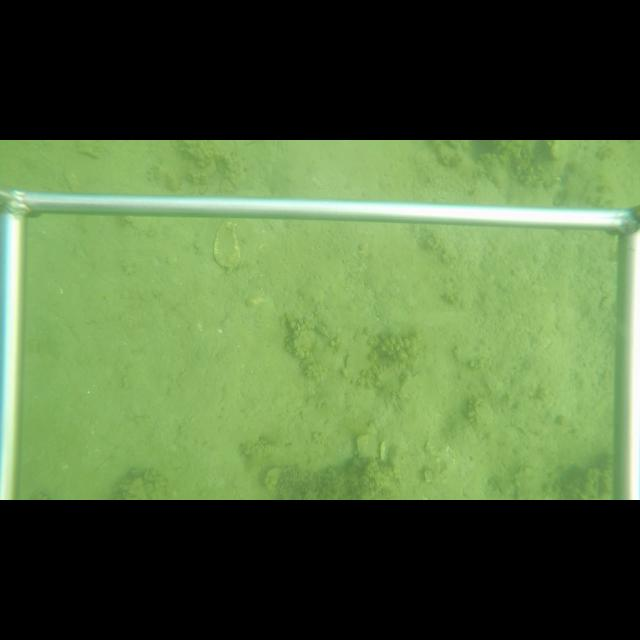Oyster-Closed: (212, 220, 242, 269)
